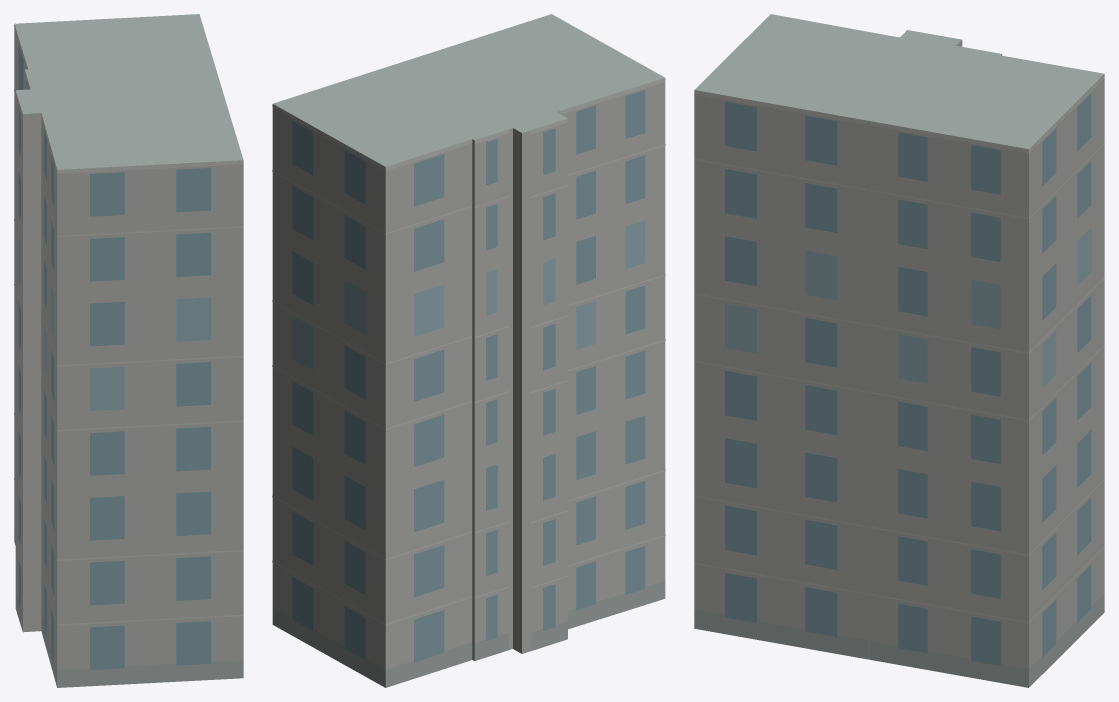
File: survey-upis-32868900.glb
3 views of the same model, side by side, from view 1: azimuth 30°, elevation 25°; view 2: azimuth 150°, elevation 25°; view 3: azimuth 270°, elevation 25° (orthographic). The views are drawn at different scales.
Parts seen in each view (by area): view 1: survey-upis-32868900.tmp; view 2: survey-upis-32868900.tmp; view 3: survey-upis-32868900.tmp.
Part boxes in pixels (x1=…): survey-upis-32868900.tmp: x1=14, y1=14, x2=243, y2=687; survey-upis-32868900.tmp: x1=272, y1=14, x2=665, y2=687; survey-upis-32868900.tmp: x1=694, y1=14, x2=1104, y2=687.
Bounding box in the file's own units: 16.12 × 29.9 × 20.65.
